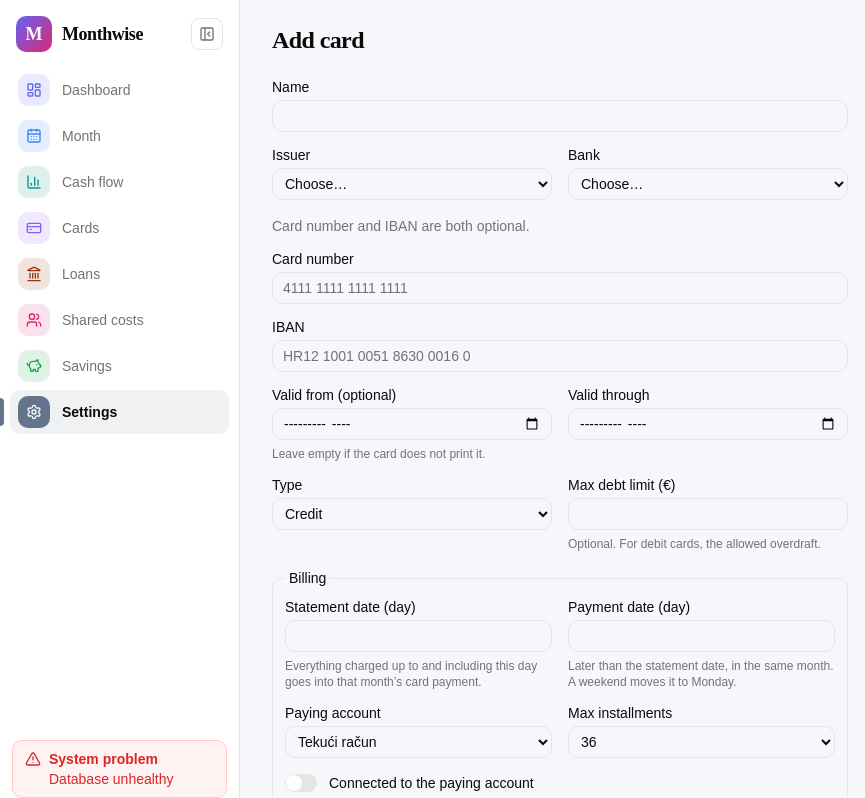
Test: Card form › shows the primary switch only for debit cards
Expected: the field labelled "Primary account (tekući)" is not shown
Expected: the field labelled "Allows monthly installments" is not shown
Select "Debit" in the dropdown labelled "Type" at (412, 514), box x1=272 y1=498 x2=552 y2=530
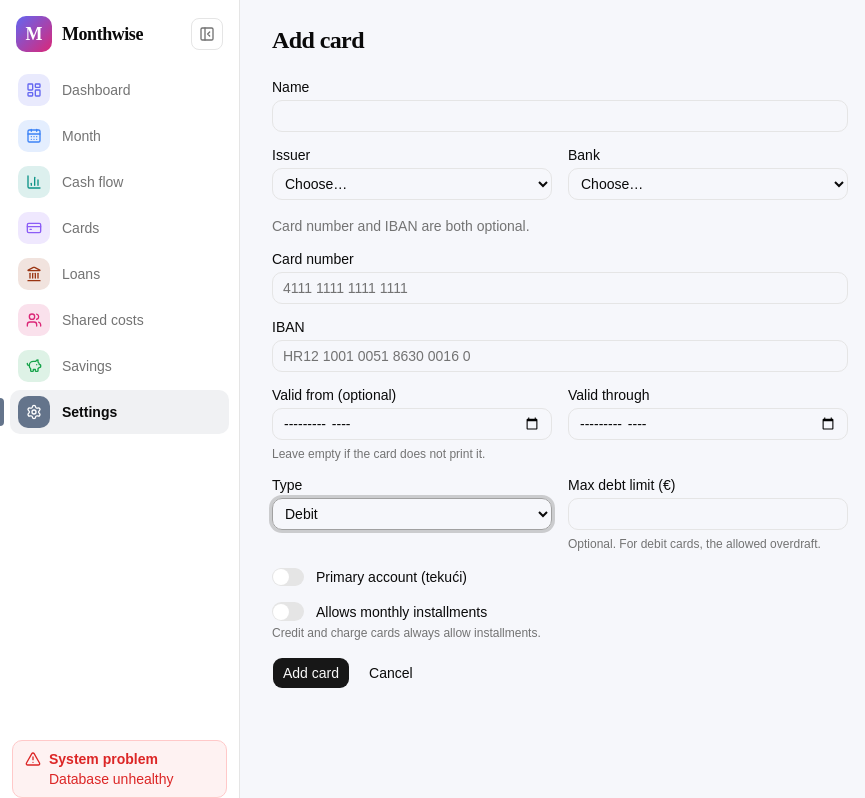
Expected: the switch named "Primary account (tekući)" next to "Primary account (tekući)" is shown, x1=272 y1=568 x2=304 y2=586
Expected: the switch named "Allows monthly installments" next to "Allows monthly installments" is shown, x1=272 y1=602 x2=304 y2=621
